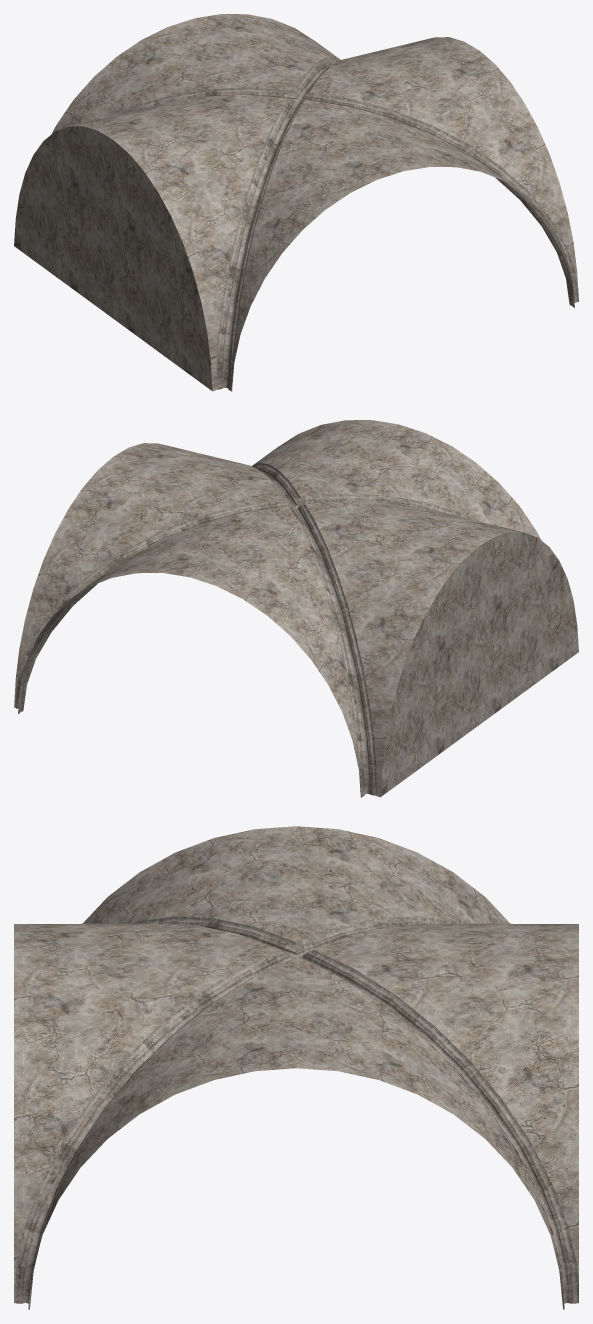
3 views of the same model, one above another, from view 1: azimuth 30°, elevation 25°; view 2: azimuth 150°, elevation 25°; view 3: azimuth 270°, elevation 25° (orthographic). The views are drawn at different scales.
Visible parts, largest first — view 1: SM_Ceiling02b_LOD0; view 2: SM_Ceiling02b_LOD0; view 3: SM_Ceiling02b_LOD0.
Part boxes in pixels (x1,y1,x2,y2): SM_Ceiling02b_LOD0: (14, 14, 578, 391); SM_Ceiling02b_LOD0: (14, 420, 578, 797); SM_Ceiling02b_LOD0: (14, 826, 578, 1309).
Bounding box in the file's own units: 8.1 × 3.78 × 8.
Materials: 2 (2 with a texture image).
